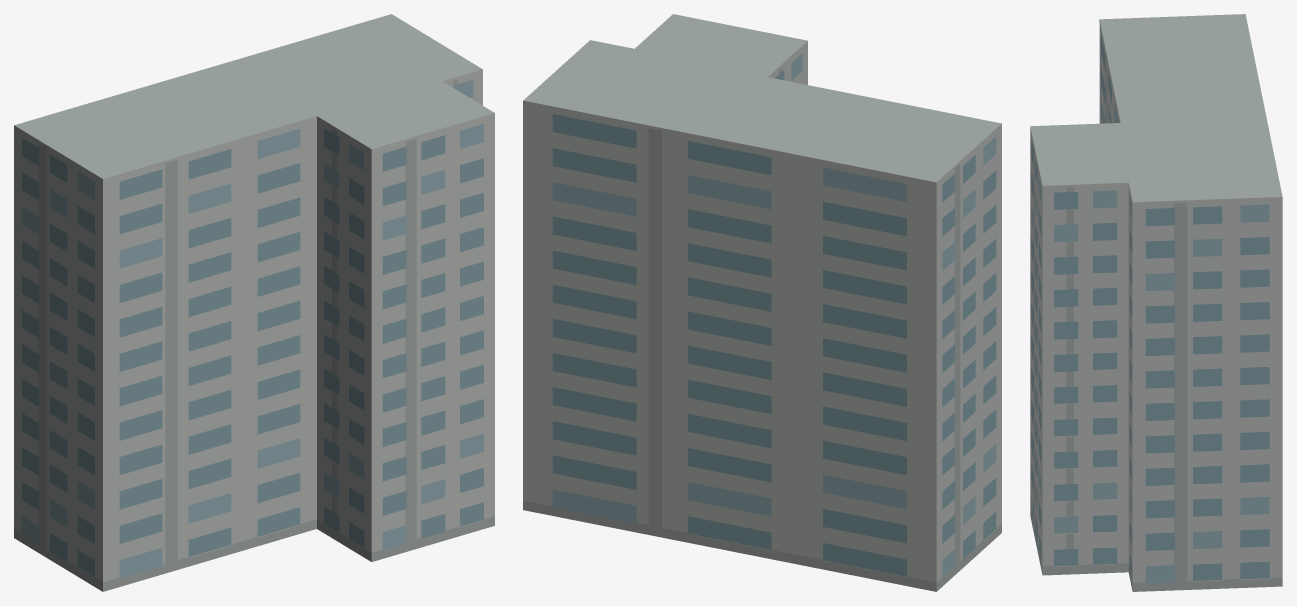
File: residential-0a976f81-4360-4a3c-a5f3-3e7206645024.glb
3 views of the same model, side by side, from view 1: azimuth 30°, elevation 25°; view 2: azimuth 150°, elevation 25°; view 3: azimuth 270°, elevation 25° (orthographic). The views are drawn at different scales.
Visible parts, largest first — view 1: residential-0a976f81-4360-4a3c-a5f3-3e7206645024.tmp; view 2: residential-0a976f81-4360-4a3c-a5f3-3e7206645024.tmp; view 3: residential-0a976f81-4360-4a3c-a5f3-3e7206645024.tmp.
Boxes of the visible parts, x1=… form: residential-0a976f81-4360-4a3c-a5f3-3e7206645024.tmp: x1=14, y1=14, x2=494, y2=591; residential-0a976f81-4360-4a3c-a5f3-3e7206645024.tmp: x1=523, y1=14, x2=1001, y2=591; residential-0a976f81-4360-4a3c-a5f3-3e7206645024.tmp: x1=1030, y1=14, x2=1282, y2=591.
Bounding box in the file's own units: 37.95 × 36.6 × 21.49.
